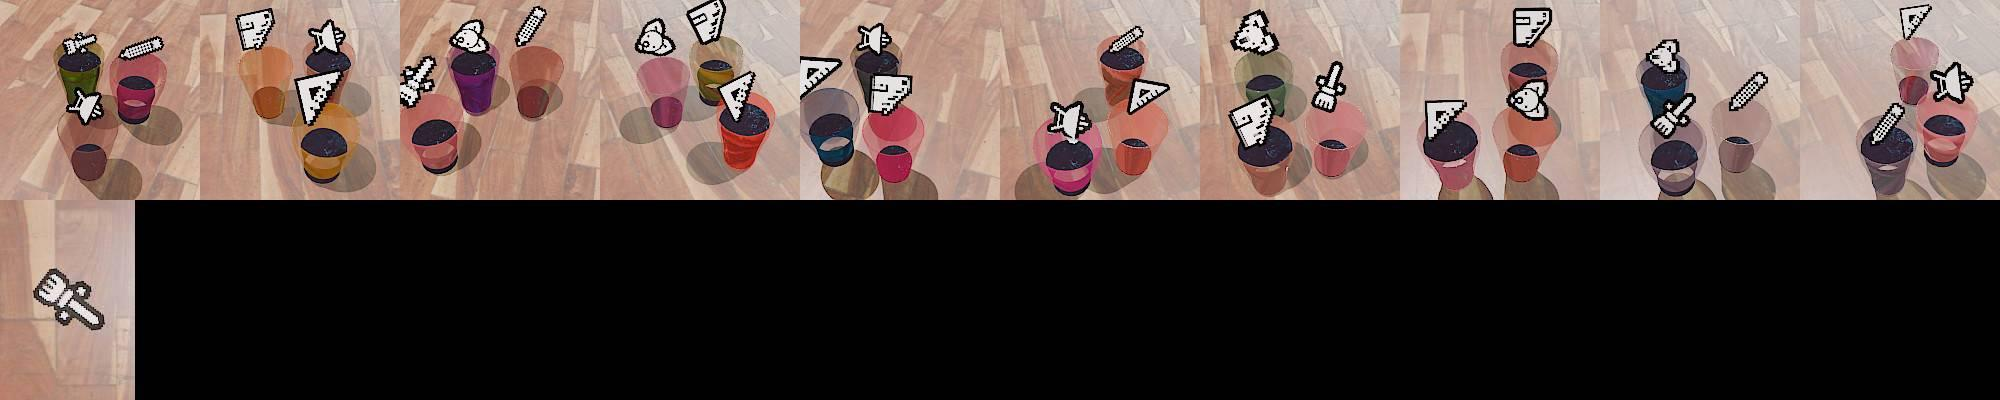icon: (32, 266, 107, 332), (294, 69, 346, 125), (1230, 94, 1276, 149), (716, 70, 758, 124), (399, 55, 439, 110), (1424, 98, 1469, 145), (1231, 9, 1279, 53), (1651, 93, 1697, 138), (867, 72, 914, 116), (1929, 60, 1976, 103), (1125, 75, 1172, 117), (1726, 69, 1768, 115), (1312, 61, 1347, 116), (1507, 79, 1550, 123), (799, 56, 843, 98), (685, 0, 726, 45), (235, 9, 276, 53), (1868, 101, 1908, 145), (634, 17, 676, 57), (1512, 7, 1552, 48), (1049, 101, 1088, 140), (448, 18, 489, 54), (514, 4, 547, 48), (307, 18, 346, 55), (854, 21, 892, 56), (118, 35, 166, 62), (1106, 23, 1144, 57), (1646, 39, 1682, 73), (69, 91, 105, 125), (1900, 4, 1932, 40), (61, 30, 99, 58)
